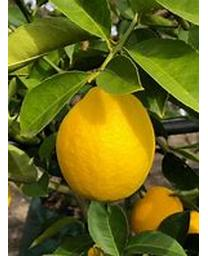lemon: (57, 87, 155, 202)
